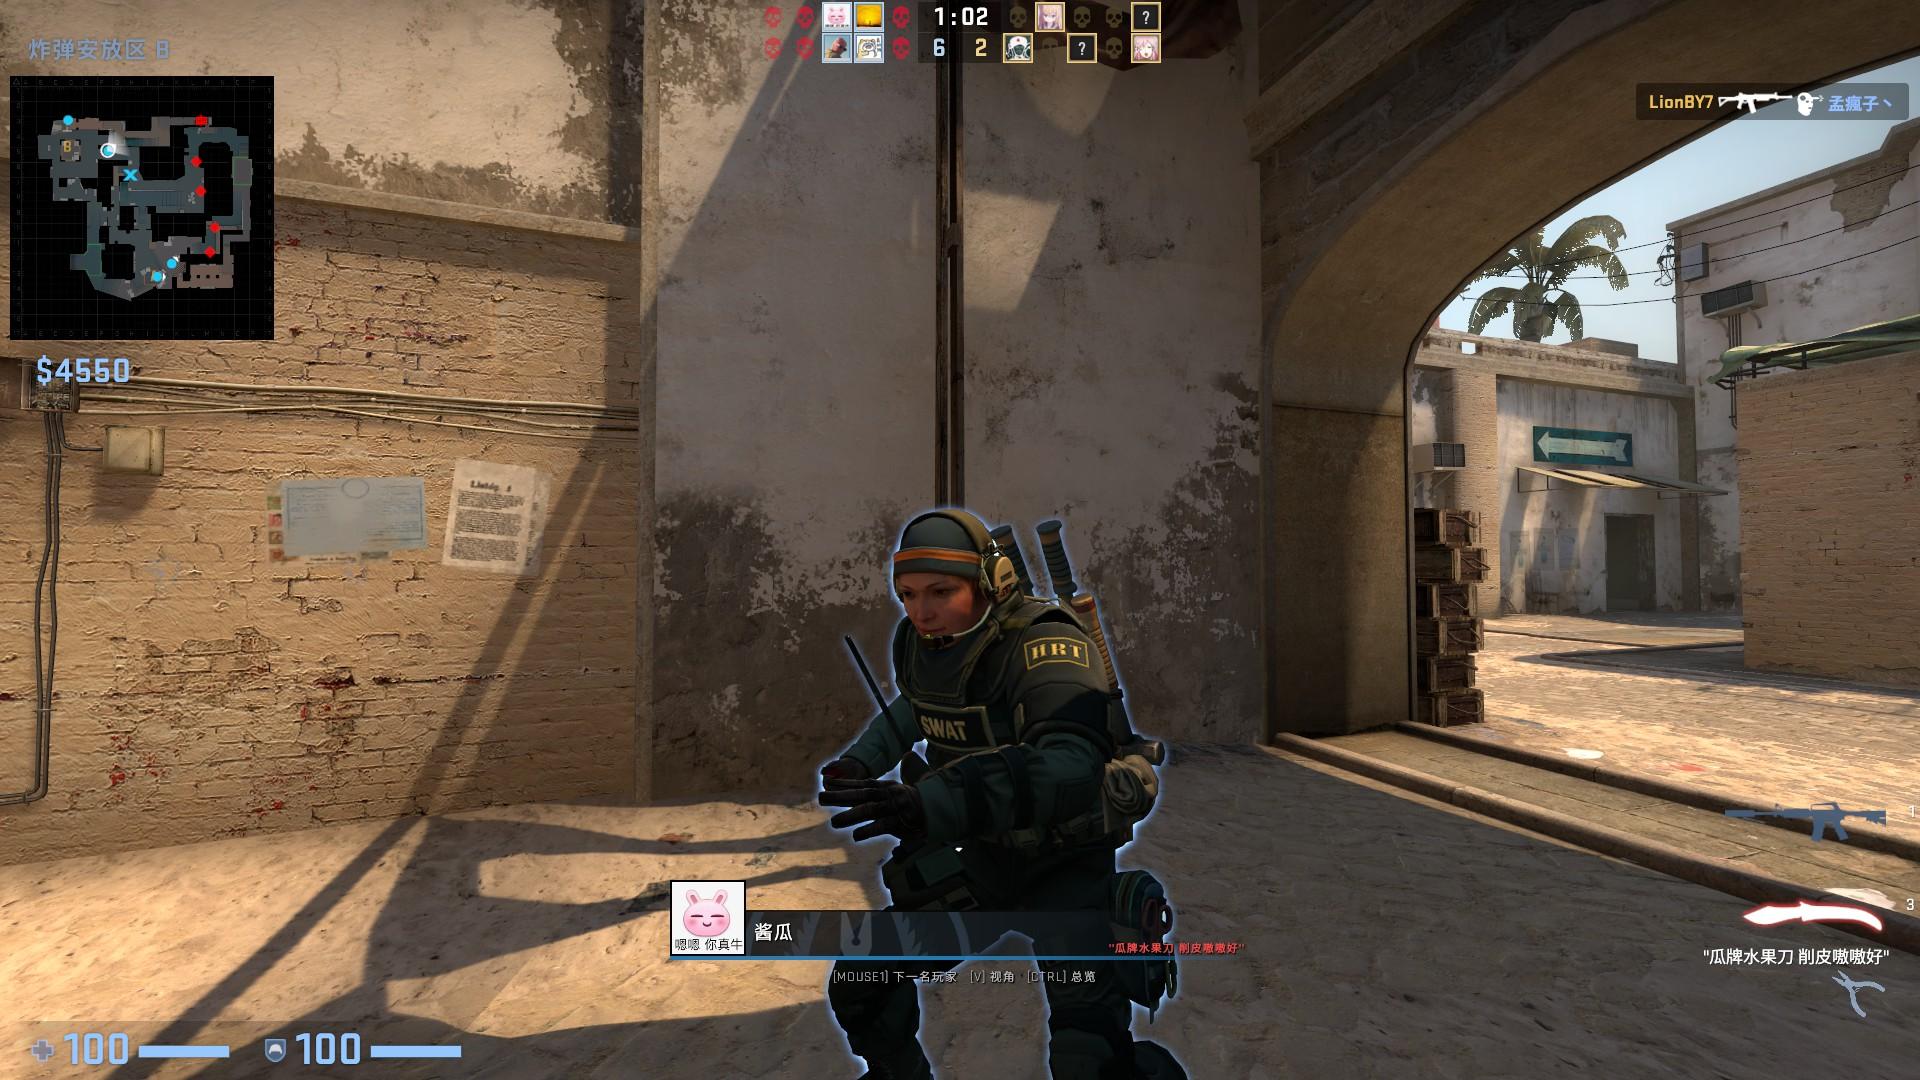head: (889, 501, 1020, 645)
